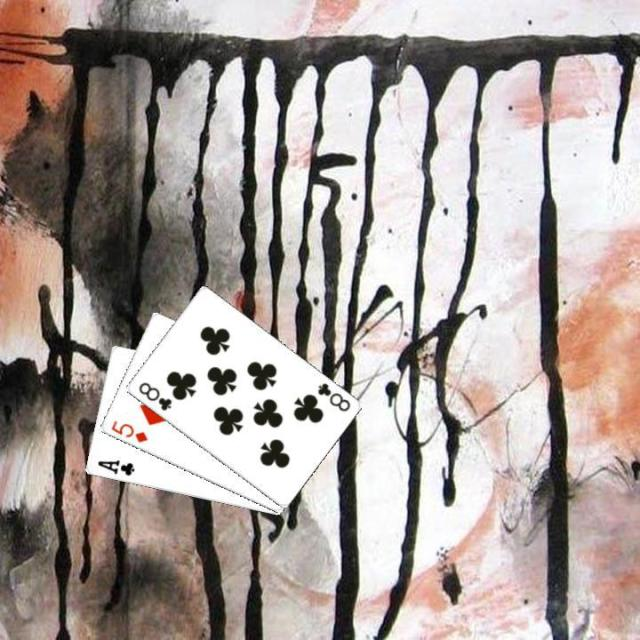5D: (107, 417, 149, 444)
8C: (134, 378, 174, 412), (313, 379, 352, 413)
AC: (93, 456, 136, 478)
